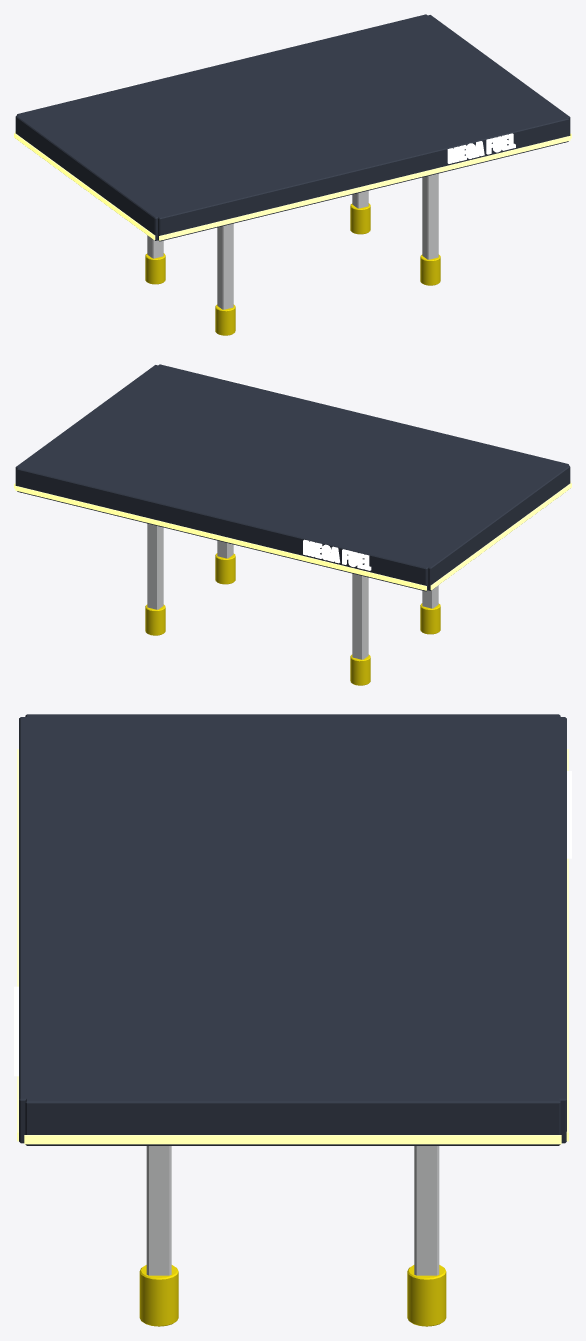
File: fuel-canopy.glb
3 renders of one model, top to bottom at view 1: azimuth 30°, elevation 25°; view 2: azimuth 150°, elevation 25°; view 3: azimuth 270°, elevation 25°, orthographic. The views are drawn at different scales.
Parts seen in each view (by area): view 1: Canopy_Fascia, Canopy_Columns, Canopy_Stripe, Canopy_Guards, Canopy_Text; view 2: Canopy_Fascia, Canopy_Columns, Canopy_Stripe, Canopy_Guards, Canopy_Text; view 3: Canopy_Fascia, Canopy_Columns, Canopy_Stripe, Canopy_Guards, Canopy_Text.
Boxes of the visible parts, bbox=[...] form: Canopy_Fascia: bbox=[15, 14, 570, 241]; Canopy_Columns: bbox=[147, 173, 438, 309]; Canopy_Stripe: bbox=[14, 131, 571, 240]; Canopy_Guards: bbox=[145, 203, 440, 335]; Canopy_Text: bbox=[72, 84, 515, 163]; Canopy_Fascia: bbox=[15, 364, 570, 591]; Canopy_Columns: bbox=[147, 523, 438, 659]; Canopy_Stripe: bbox=[14, 481, 571, 590]; Canopy_Guards: bbox=[145, 553, 440, 685]; Canopy_Text: bbox=[217, 377, 371, 570]; Canopy_Fascia: bbox=[19, 714, 566, 1145]; Canopy_Columns: bbox=[146, 1146, 439, 1275]; Canopy_Stripe: bbox=[17, 749, 568, 1144]; Canopy_Guards: bbox=[139, 1265, 446, 1326]; Canopy_Text: bbox=[14, 771, 571, 1076].
Bounding box in the file's own units: 44.8 × 16.9 × 27.1.
